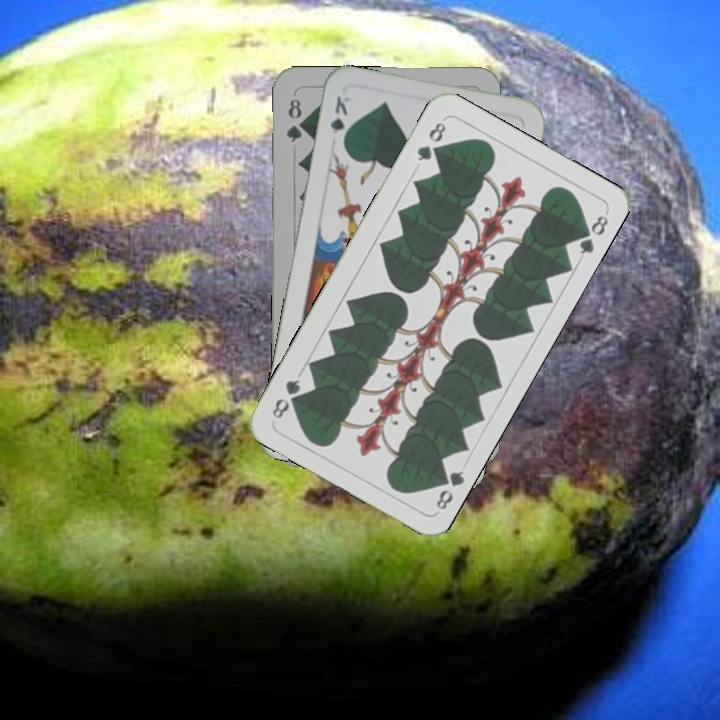G8: (413, 115, 449, 164), (431, 466, 467, 513), (282, 94, 306, 145)
GK: (326, 92, 352, 149)
